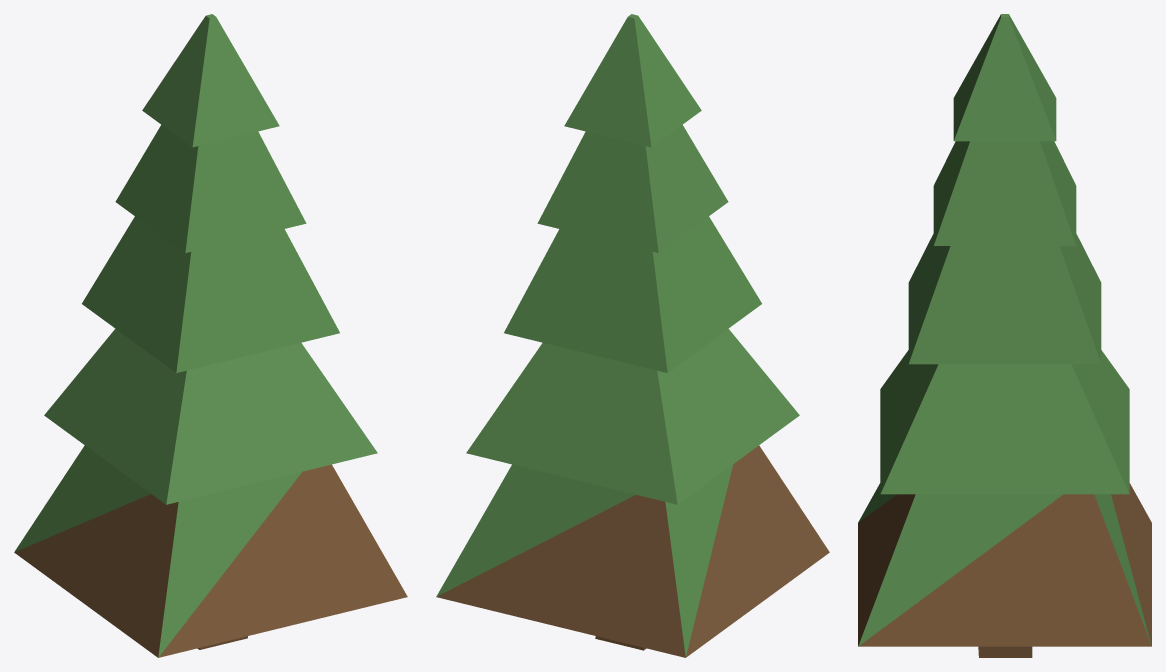
File: tree3d-158.glb
3 renders of one model, left to right at view 1: azimuth 30°, elevation 25°; view 2: azimuth 150°, elevation 25°; view 3: azimuth 270°, elevation 25°, orthographic.
Visible parts, largest first — view 1: tree3d-158; view 2: tree3d-158; view 3: tree3d-158.
Boxes of the visible parts, left/top/right/bottom form: tree3d-158: left=14, top=14, right=407, bottom=657; tree3d-158: left=436, top=14, right=829, bottom=657; tree3d-158: left=858, top=14, right=1151, bottom=657.
Size of the model in its own units: 0.4223 by 1 by 0.4223.
